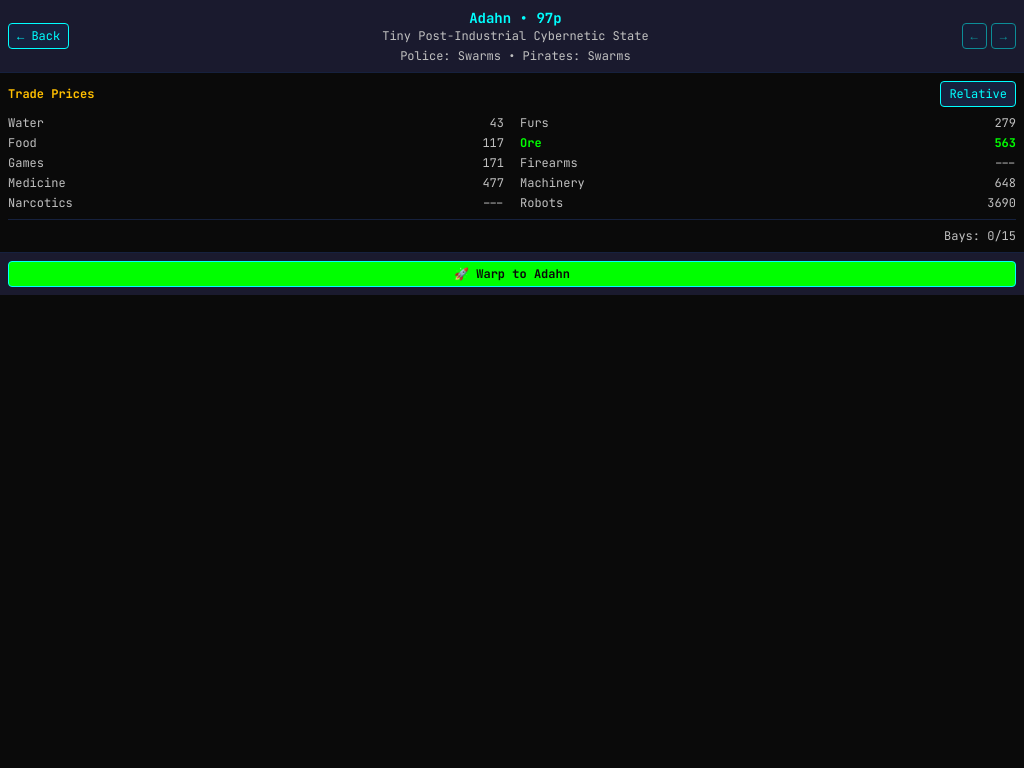
Test: DestinationScreen › Insufficient Resources Scenarios › should handle insufficient fuel scenario
What coordinates should you click on to do the following:
click the button with test id "warp-button"
I would click on:
 (512, 274)
Its box is [8,261,1016,287].
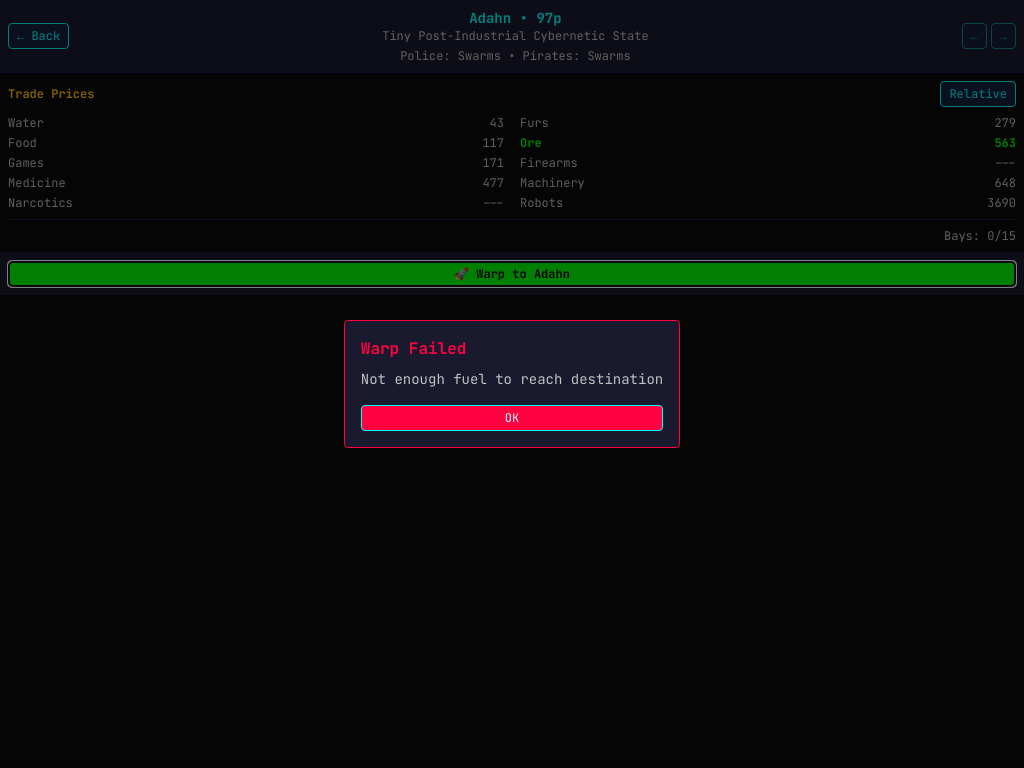
Result: the text with test id "error-message" shows "Not enough fuel" at [361,370,663,388]
